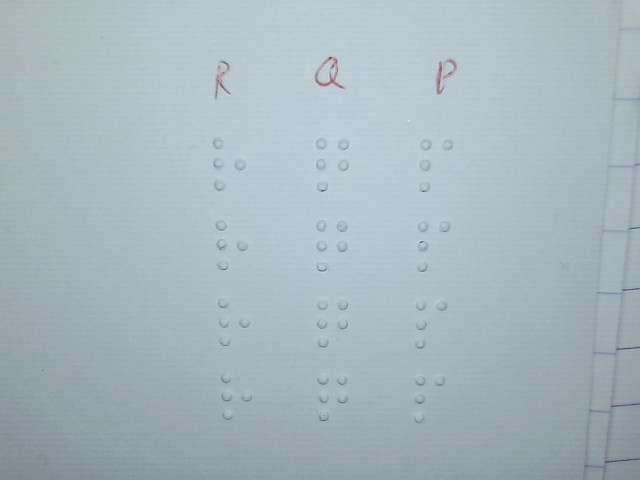P: (418, 138, 453, 193), (416, 219, 451, 273), (414, 298, 448, 349), (413, 373, 447, 424)
Q: (315, 137, 350, 192), (315, 217, 349, 272), (315, 297, 349, 349), (317, 372, 350, 421)
R: (212, 136, 247, 191), (214, 218, 249, 271), (217, 295, 251, 347), (220, 371, 253, 420)
